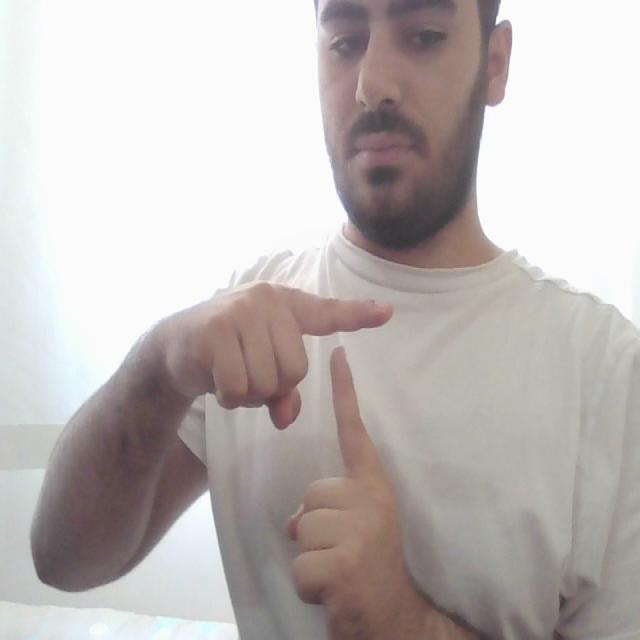Tesekkurler: (274, 274, 404, 500)
